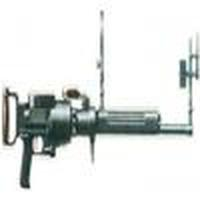gun: (4, 12, 190, 182)
